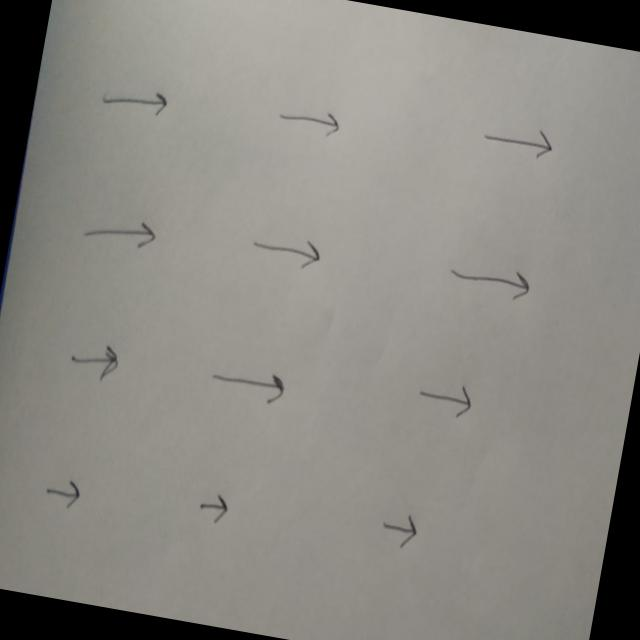arrow_line_right: (442, 247, 536, 311), (205, 356, 294, 414), (478, 111, 562, 171), (78, 204, 164, 261), (245, 220, 328, 278), (94, 70, 174, 126), (272, 94, 348, 149), (412, 367, 480, 428), (62, 329, 130, 388), (377, 502, 427, 558), (38, 464, 90, 516), (192, 485, 239, 532)
